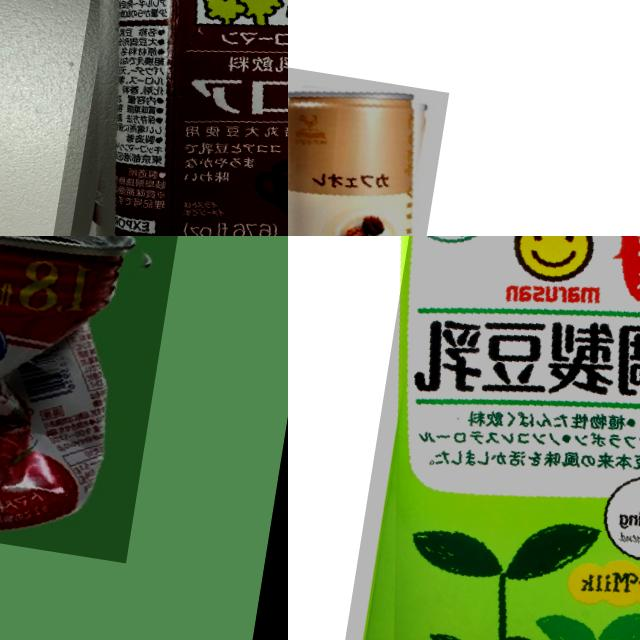Aluminium Foil: (330, 236, 640, 640), (42, 0, 288, 236)
Can: (0, 236, 180, 562), (288, 66, 448, 236)
